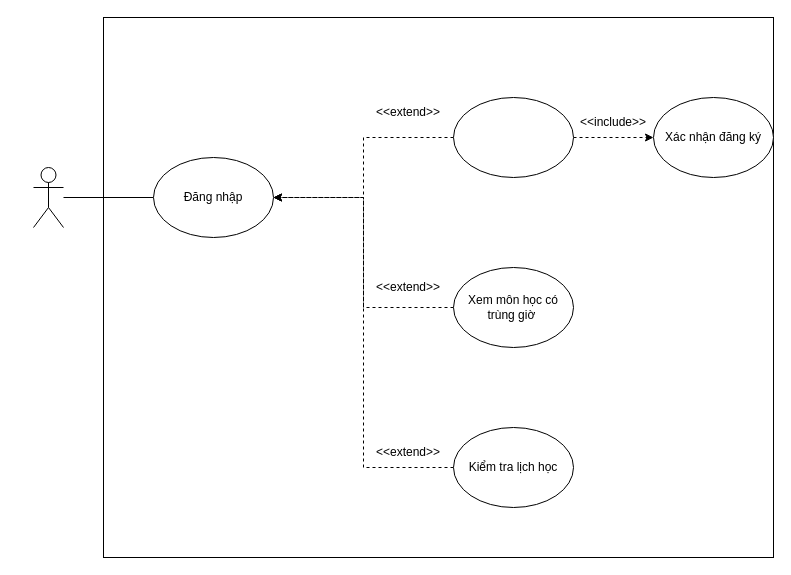
Image size: 791x575. Some labels were removed from this diagram. The box of each missing label's shape, as (x1, y1, x2, y2) in pixels:
người dùng: (32, 166, 64, 228)
Đăng ký môn học: (452, 96, 574, 178)
